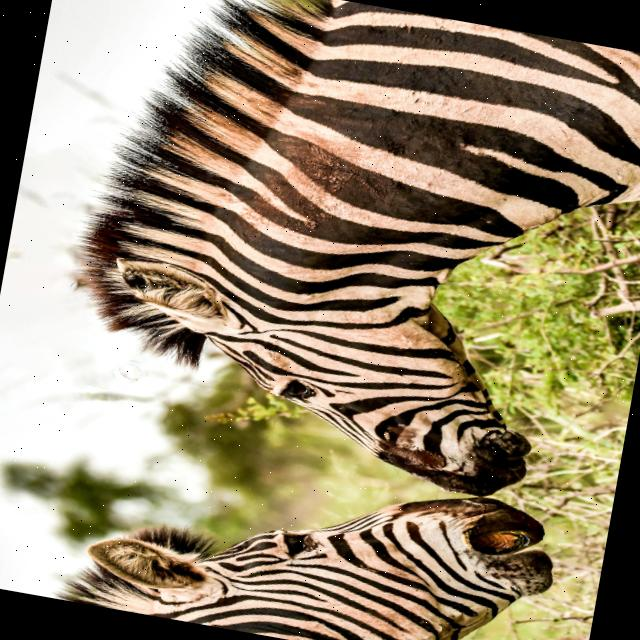Zebra: (41, 0, 640, 517), (52, 428, 609, 640)
